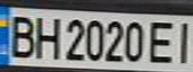0: (81, 16, 106, 63), (124, 17, 148, 64)
2: (103, 17, 127, 64), (63, 15, 87, 62)
B: (3, 11, 39, 58)
E: (145, 17, 178, 65)
H: (30, 12, 63, 60)
I: (172, 17, 193, 65)
